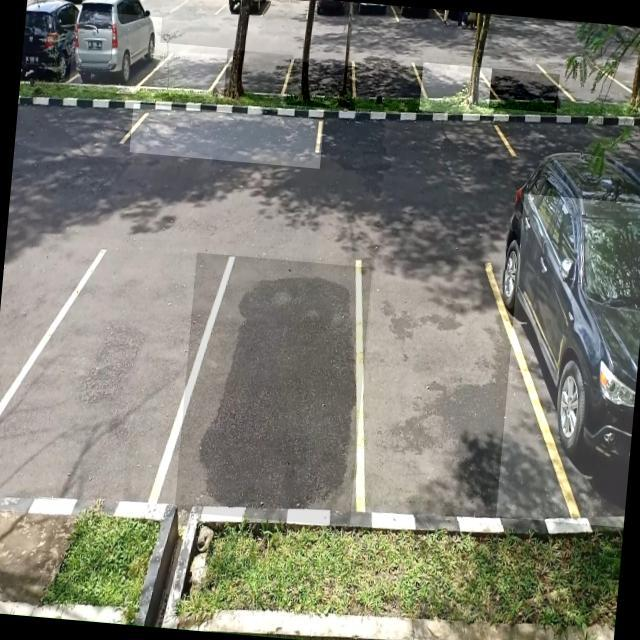empty: (174, 252, 372, 526), (11, 232, 198, 510), (352, 258, 526, 524), (319, 110, 514, 186), (129, 102, 325, 168), (153, 42, 230, 98), (419, 62, 496, 116), (224, 49, 294, 104), (354, 63, 426, 113), (286, 61, 358, 110), (489, 68, 560, 113)
occupied: (495, 193, 640, 527), (68, 10, 162, 96)
